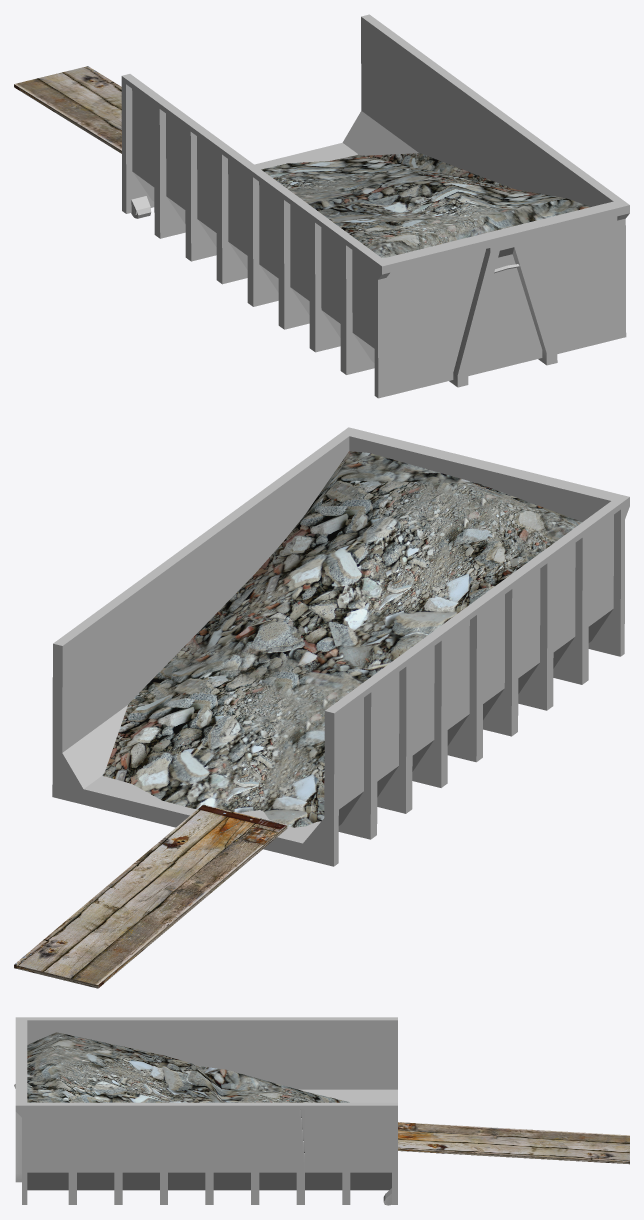
The model's file is DumpsterDirty03.FBX.
The picture shows the model from 3 angles, top to bottom: view 1: azimuth 30°, elevation 25°; view 2: azimuth 150°, elevation 25°; view 3: azimuth 270°, elevation 25°; orthographic projection. The views are drawn at different scales.
Visible parts, largest first — view 1: DumpsterDirty03, DumpsterDirty03Gravel, DumpsterDirty03Wood; view 2: DumpsterDirty03, DumpsterDirty03Gravel, DumpsterDirty03Wood; view 3: DumpsterDirty03, DumpsterDirty03Gravel, DumpsterDirty03Wood.
Boxes of the visible parts, x1,y1,x2,y2 form: DumpsterDirty03: (121,14,629,398); DumpsterDirty03Gravel: (261,153,590,258); DumpsterDirty03Wood: (14,66,121,153); DumpsterDirty03: (52,427,629,866); DumpsterDirty03Gravel: (102,451,582,827); DumpsterDirty03Wood: (14,804,287,988); DumpsterDirty03: (14,1017,397,1205); DumpsterDirty03Gravel: (27,1032,349,1102); DumpsterDirty03Wood: (398,1122,629,1164).
Bounding box in the file's own units: 3499 × 1891 × 10240.
